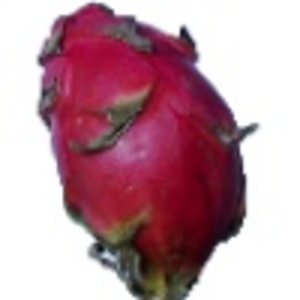pitaia: (37, 1, 260, 300)
